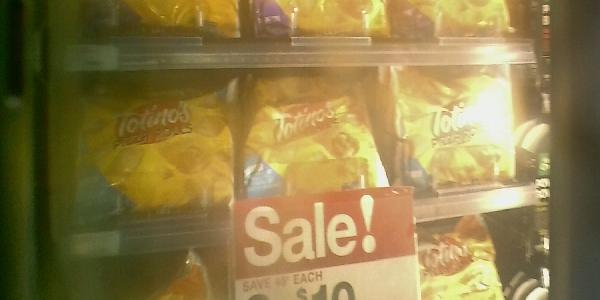icecream: (237, 67, 399, 229), (69, 78, 237, 229), (398, 65, 527, 189)
